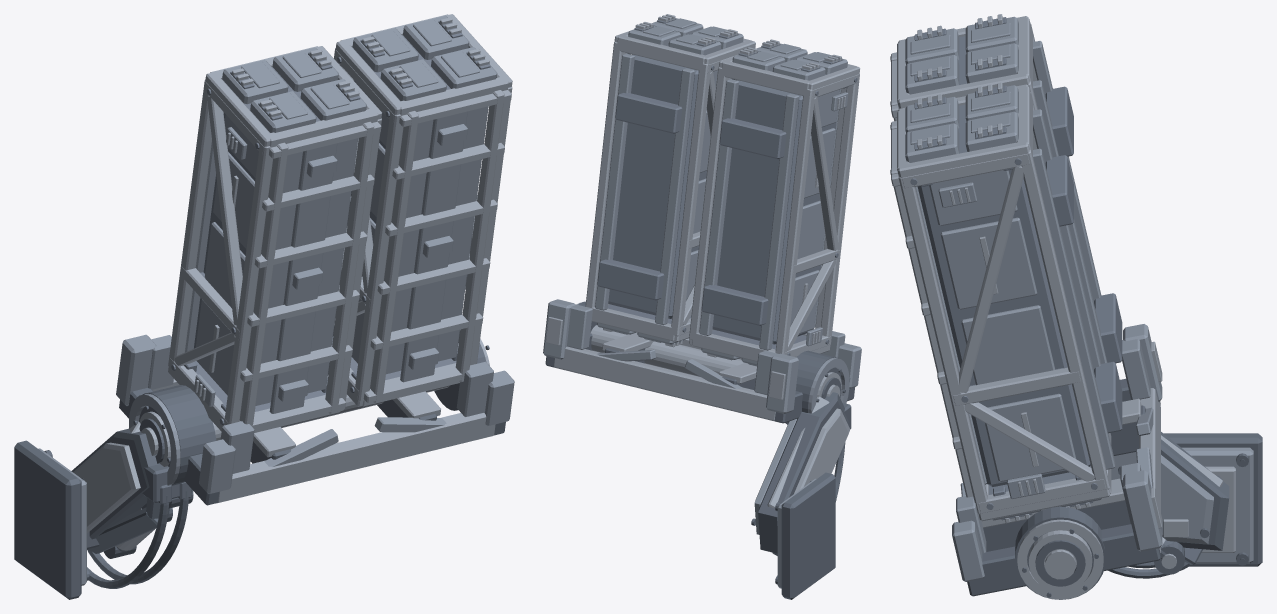
Rendered from vertical-pods-b-hip-assembly-v1.glb.
3 renders of one model, left to right at view 1: azimuth 30°, elevation 25°; view 2: azimuth 150°, elevation 25°; view 3: azimuth 270°, elevation 25°, orthographic. The views are drawn at different scales.
Visible parts, largest first — view 1: CassetteLeft_B, CassetteRight_B, HipBracket_B, RotatingCradle_B; view 2: CassetteLeft_B, CassetteRight_B, HipBracket_B, RotatingCradle_B; view 3: CassetteRight_B, RotatingCradle_B, CassetteLeft_B, HipBracket_B.
Part boxes in pixels (x1,y1,x2,y2): CassetteLeft_B: (168,46,382,432); CassetteRight_B: (331,14,512,406); HipBracket_B: (14,385,449,599); RotatingCradle_B: (116,334,514,505); CassetteLeft_B: (689,39,860,366); CassetteRight_B: (585,14,755,347); HipBracket_B: (590,325,851,599); RotatingCradle_B: (543,299,861,423); CassetteRight_B: (890,82,1122,523); RotatingCradle_B: (952,324,1162,599); CassetteLeft_B: (890,14,1122,363); HipBracket_B: (1108,432,1262,578).
Size of the model in its own units: 2.1 by 2.97 by 1.68.
